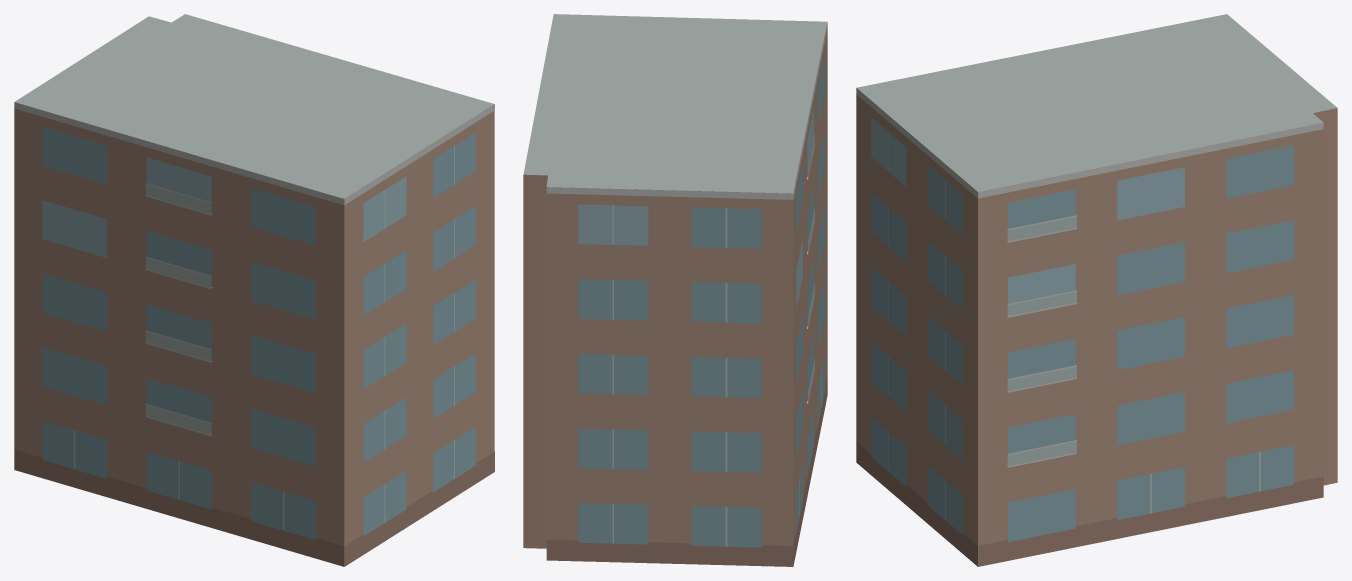
File: survey-upis-32702238.glb
3 renders of one model, left to right at view 1: azimuth 30°, elevation 25°; view 2: azimuth 150°, elevation 25°; view 3: azimuth 270°, elevation 25°, orthographic.
Parts seen in each view (by area): view 1: survey-upis-32702238.tmp; view 2: survey-upis-32702238.tmp; view 3: survey-upis-32702238.tmp.
Part boxes in pixels (bbox=[...]): survey-upis-32702238.tmp: bbox=[14, 14, 494, 566]; survey-upis-32702238.tmp: bbox=[523, 14, 827, 566]; survey-upis-32702238.tmp: bbox=[856, 14, 1337, 566].
Size of the model in its own units: 14.48 by 14.2 by 16.54.
